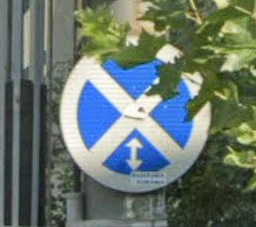oprirea_interzisa: (57, 30, 215, 199)
